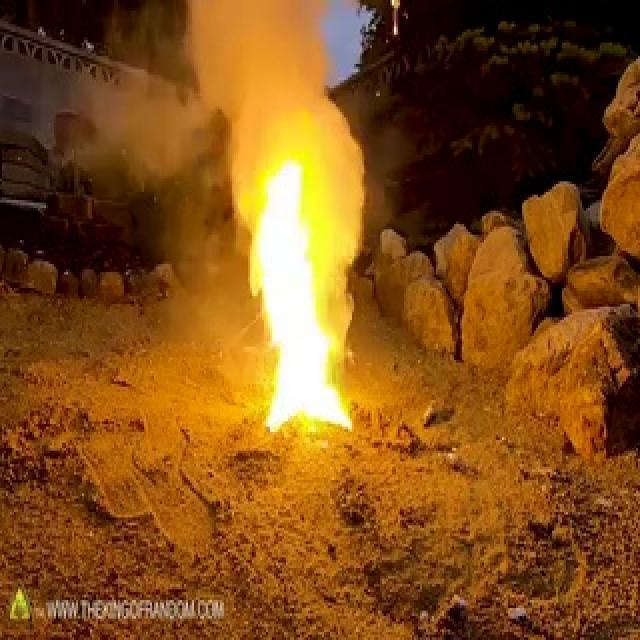fire: (235, 154, 361, 440)
